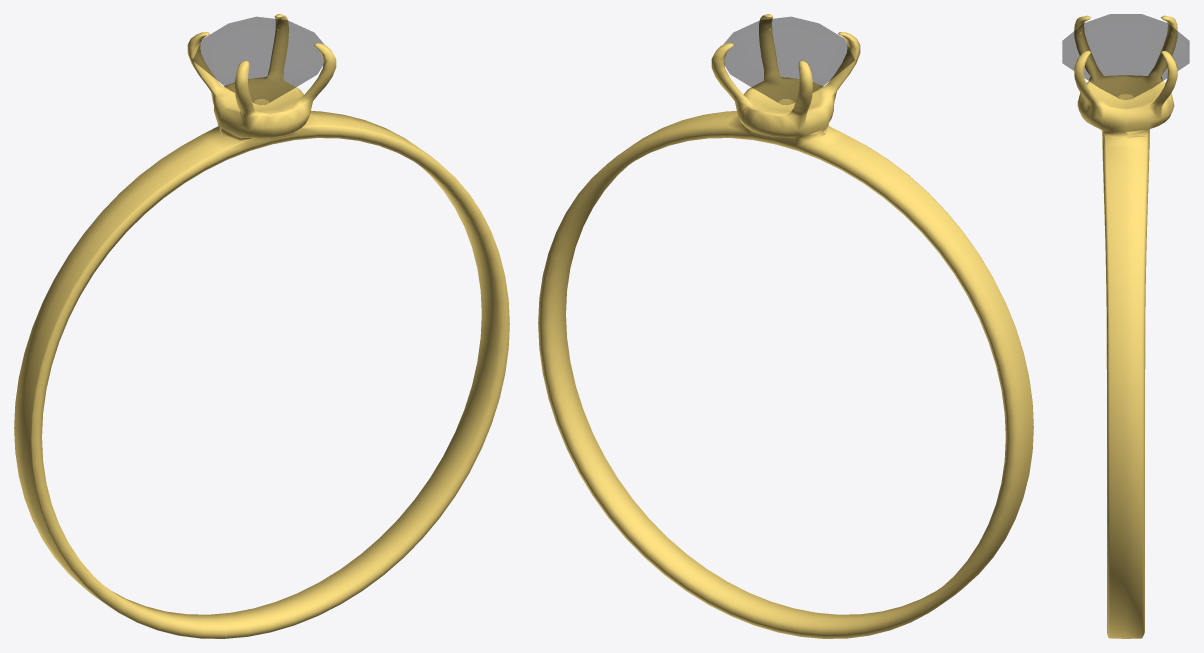
Rendered from Diamond_Ring.glb.
3 views of the same model, side by side, from view 1: azimuth 30°, elevation 25°; view 2: azimuth 150°, elevation 25°; view 3: azimuth 270°, elevation 25° (orthographic).
Parts seen in each view (by area): view 1: Ring_base, Diamond; view 2: Ring_base, Diamond; view 3: Ring_base, Diamond.
Boxes of the visible parts, x1,y1,x2,y2 form: Ring_base: (14,14,509,638); Diamond: (193,17,324,104); Ring_base: (538,14,1033,638); Diamond: (723,17,854,104); Ring_base: (1074,15,1177,638); Diamond: (1062,14,1189,99).
Bounding box in the file's own units: 0.0462 × 0.0545 × 0.0108.
